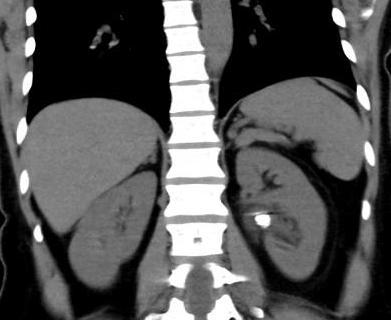Tas_Var: (254, 213, 270, 228), (253, 210, 260, 216), (264, 223, 270, 227)
